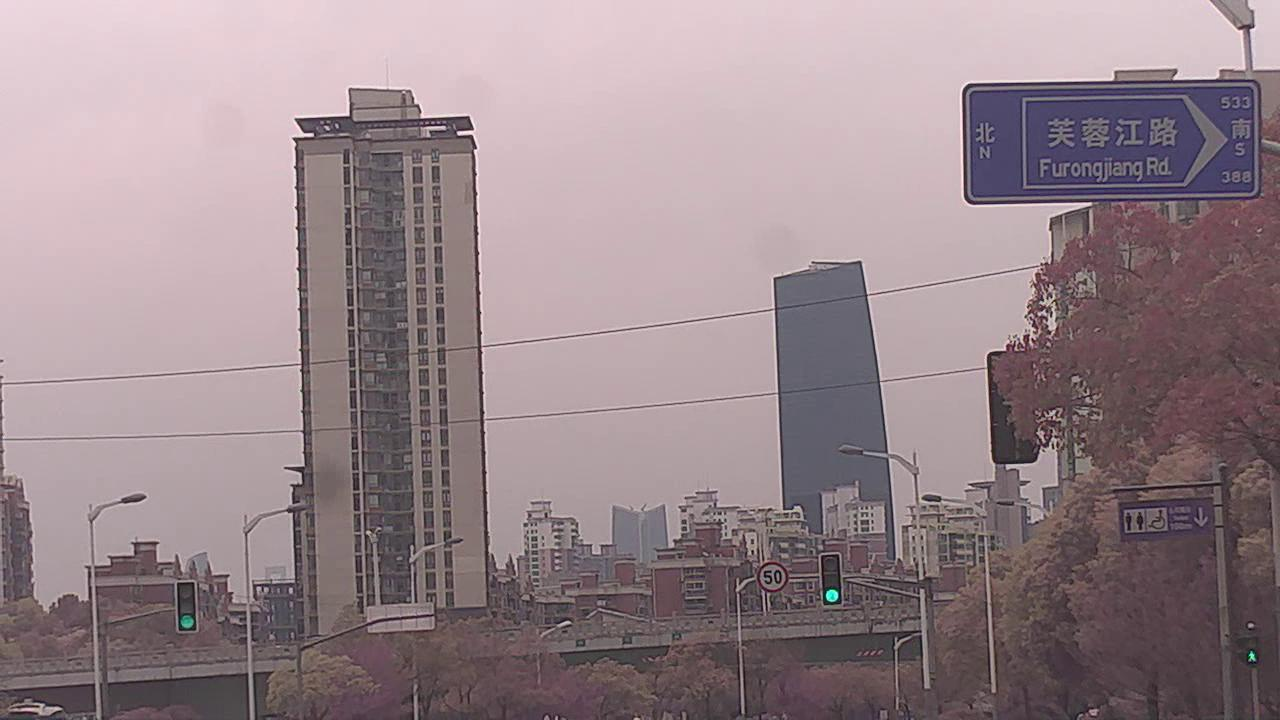traffic_light: (822, 553, 845, 606), (176, 584, 199, 634)
